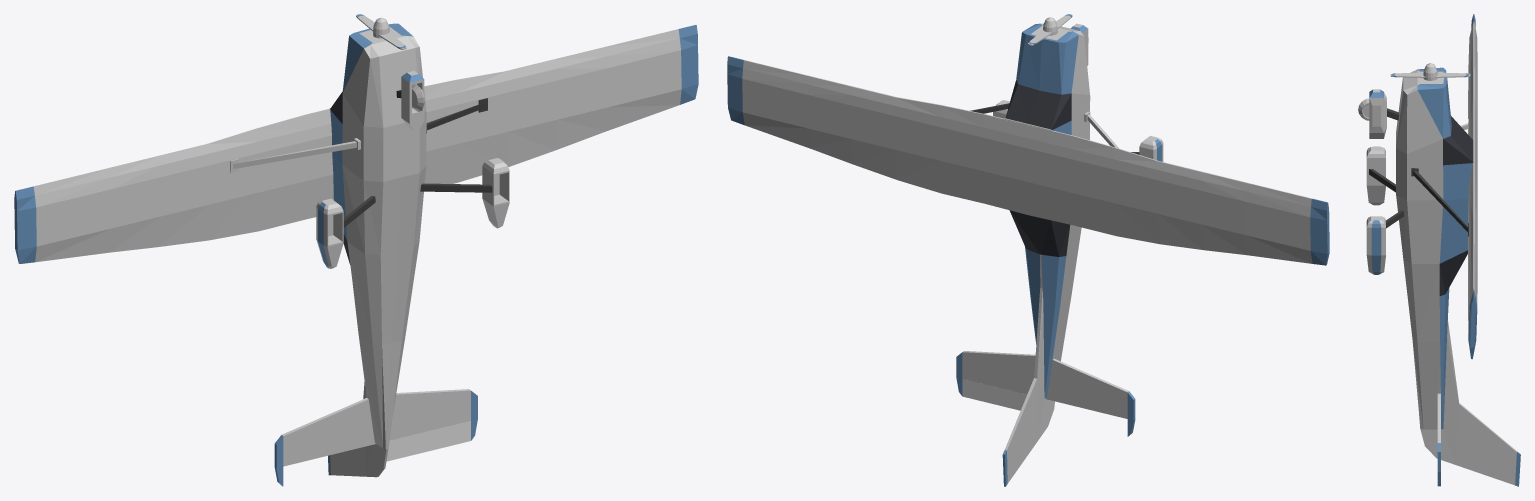
Rendered from Cessna.fbx.
3 views of the same model, side by side, from view 1: azimuth 30°, elevation 25°; view 2: azimuth 150°, elevation 25°; view 3: azimuth 270°, elevation 25° (orthographic). The views are drawn at different scales.
Visible parts, largest first — view 1: Body, Wheel 2, Elevator, Wheel 1; view 2: Body, Windshield, Back Windshield, Elevator, Wheel 2; view 3: Body, Wheel 2, Windshield, Wheel 1, Back Windshield, Propellor, Wheel.
Boxes of the visible parts, x1=… form: Body: x1=14, y1=23, x2=698, y2=486; Wheel 2: x1=316, y1=158, x2=509, y2=268; Elevator: x1=386, y1=421, x2=470, y2=461; Wheel 1: x1=396, y1=71, x2=424, y2=131; Body: x1=727, y1=23, x2=1329, y2=486; Windshield: x1=1005, y1=80, x2=1071, y2=130; Back Windshield: x1=1009, y1=210, x2=1070, y2=256; Elevator: x1=962, y1=379, x2=1026, y2=410; Wheel 2: x1=993, y1=100, x2=1163, y2=161; Body: x1=1396, y1=14, x2=1520, y2=486; Wheel 2: x1=1366, y1=146, x2=1404, y2=274; Windshield: x1=1443, y1=116, x2=1473, y2=165; Wheel 1: x1=1369, y1=89, x2=1399, y2=138; Back Windshield: x1=1439, y1=250, x2=1467, y2=295; Propellor: x1=1390, y1=63, x2=1470, y2=80; Wheel: x1=1358, y1=98, x2=1369, y2=120.
Size of the model in its own units: 2771 by 1926 by 671.
